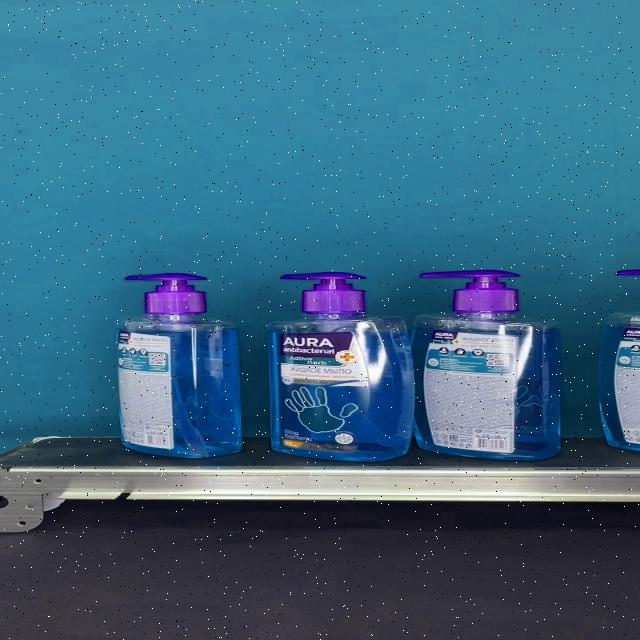Bottle: (411, 271, 562, 460), (267, 272, 414, 461), (114, 273, 243, 457)
Cap: (420, 270, 520, 313), (280, 272, 366, 313), (126, 273, 206, 314)
